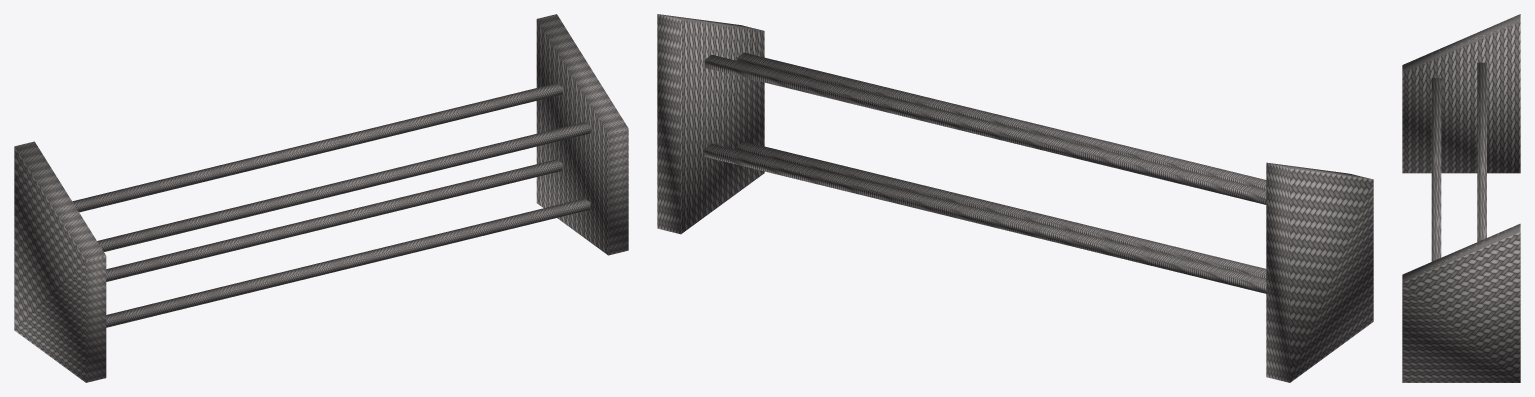
The model's file is weight_rack.obj.
3 renders of one model, left to right at view 1: azimuth 30°, elevation 25°; view 2: azimuth 150°, elevation 25°; view 3: azimuth 270°, elevation 25°, orthographic. The views are drawn at different scales.
Visible parts, largest first — view 1: Box001; view 2: Box001; view 3: Box001.
Boxes of the visible parts, x1=… form: Box001: x1=14, y1=14, x2=628, y2=382; Box001: x1=657, y1=14, x2=1373, y2=382; Box001: x1=1402, y1=14, x2=1520, y2=382.
Bounding box in the file's own units: 260 × 84.1 × 59.46.
Materials: 1 (1 with a texture image).
